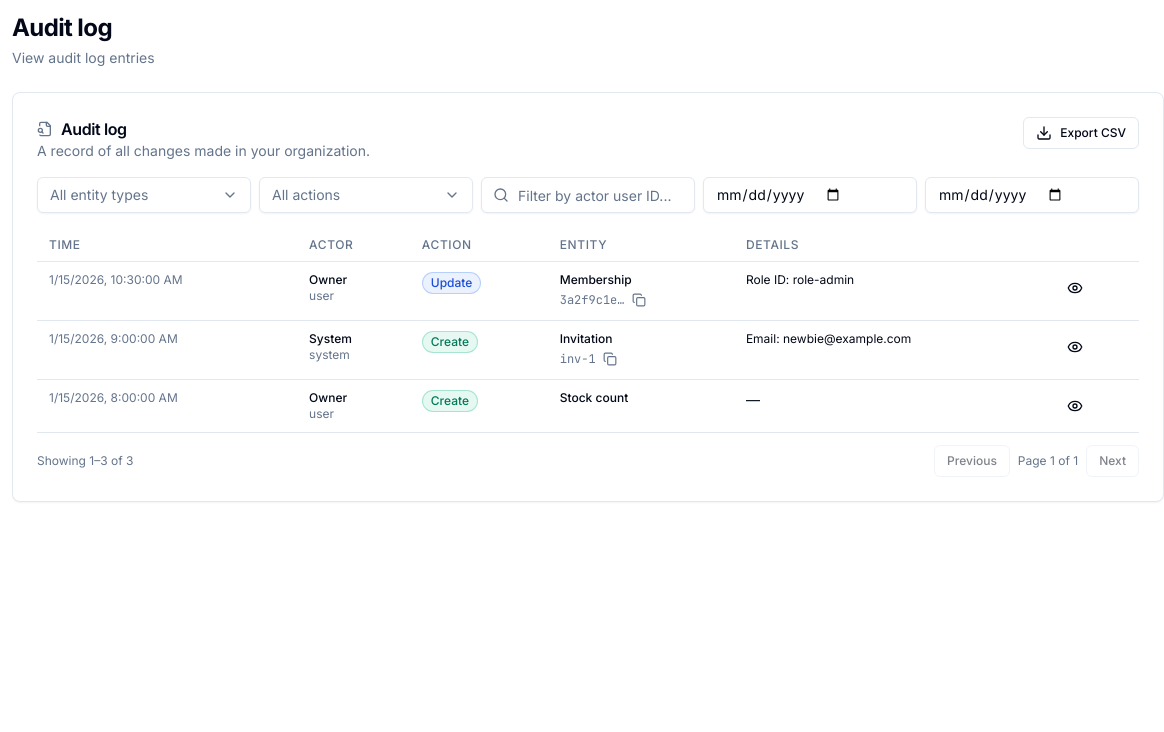
AuditLogSettingsPage — rendering + filters › filters by entity type and action
Expected: the table is shown, top-left (37, 229), bottom-right (1139, 432)
Click the dropdown labelled "All entity types" at x=144, y=195, box top-left (37, 177), bottom-right (251, 213)
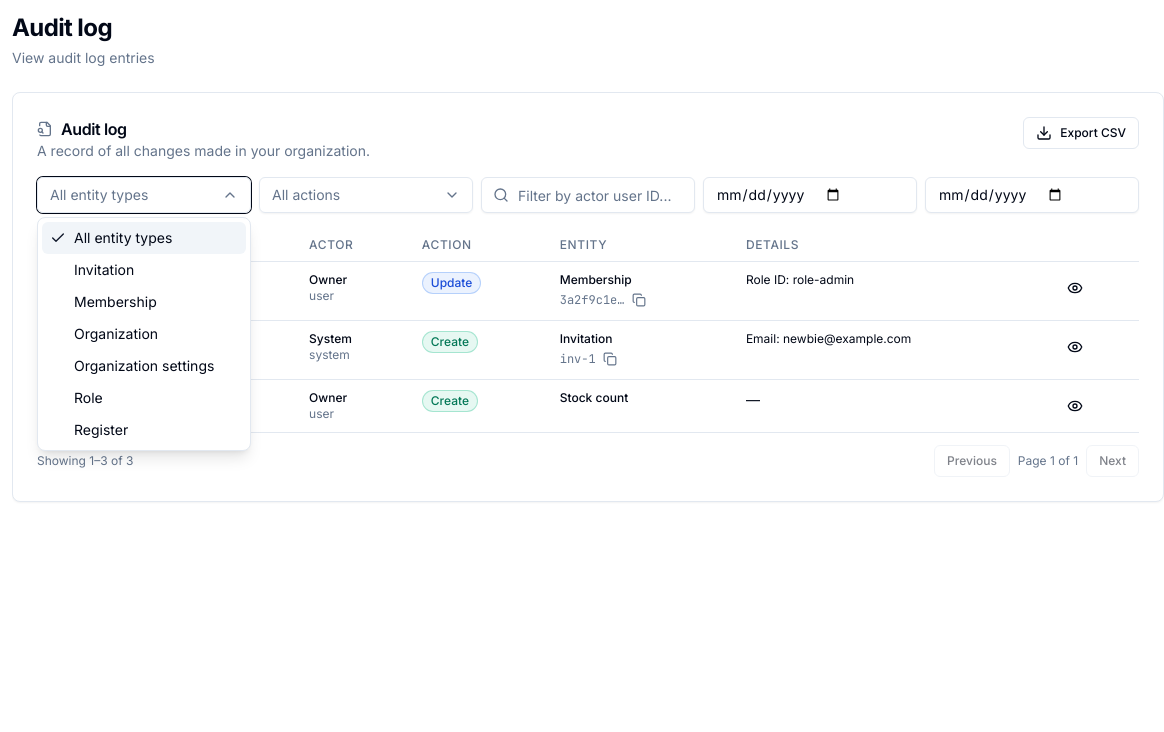
Click the option "Invitation" at x=144, y=270, box top-left (42, 254), bottom-right (246, 286)
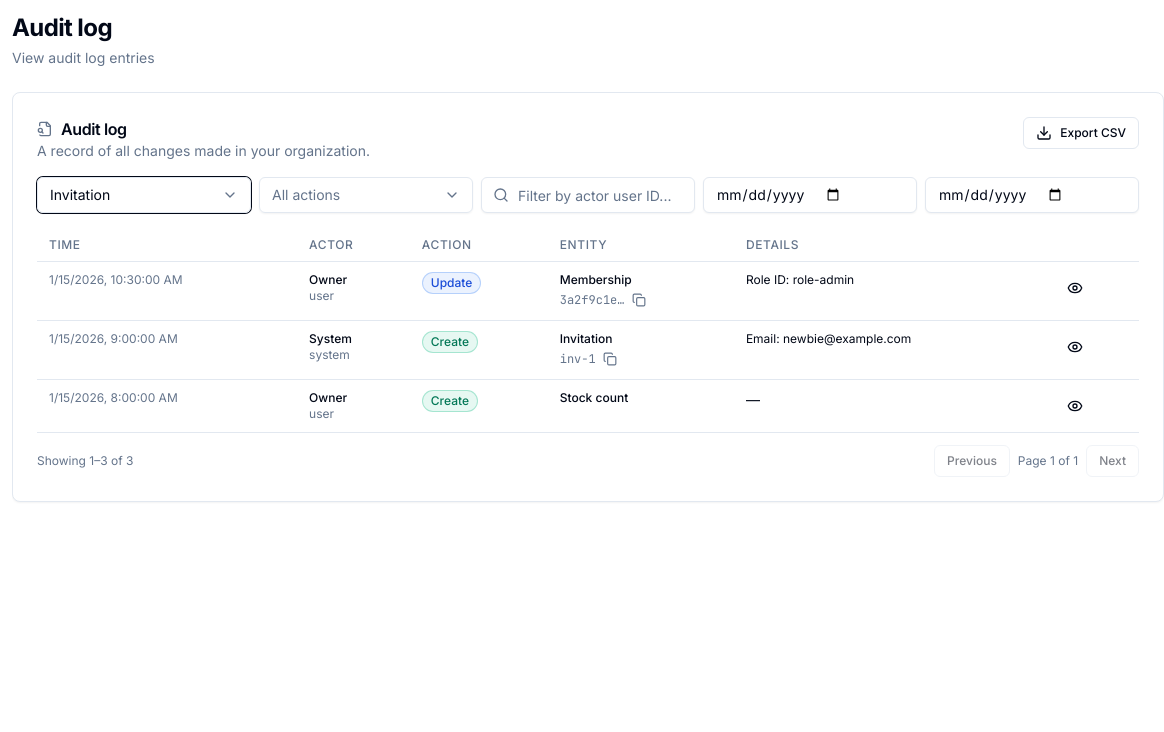
Expected: the dropdown named "All entity types" reads "Invitation", top-left (37, 177), bottom-right (251, 213)
